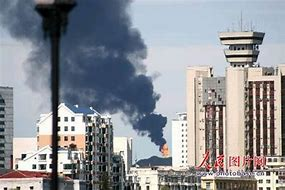smoke: (8, 1, 166, 145)
